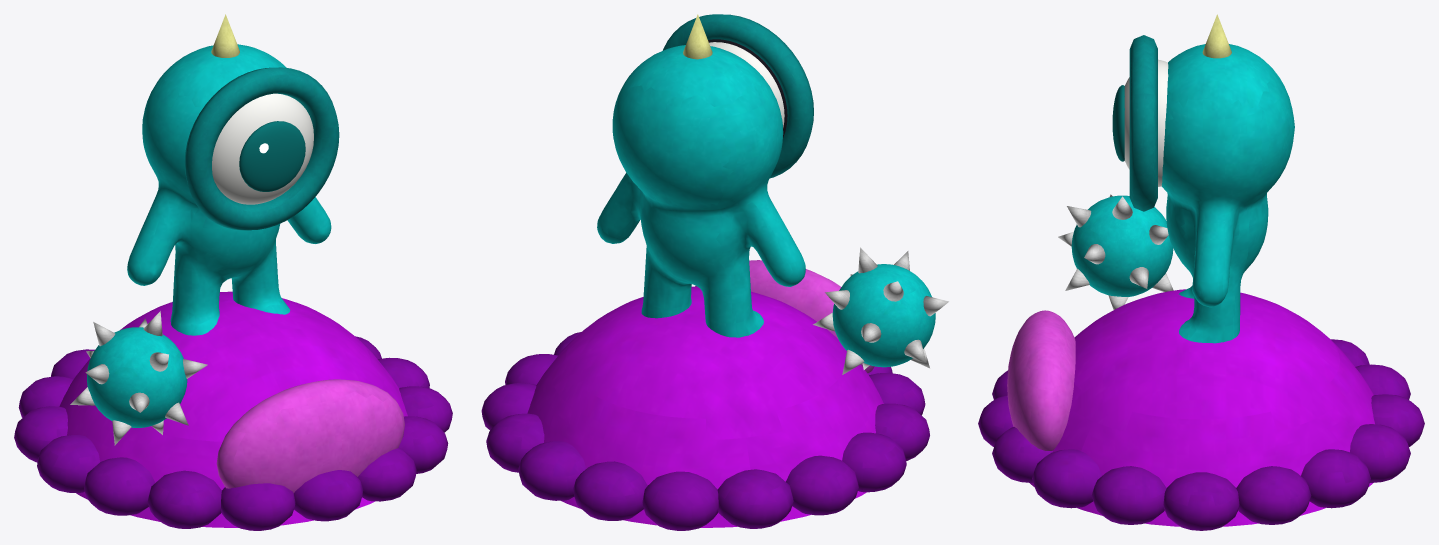
3 views of the same model, side by side, from view 1: azimuth 30°, elevation 25°; view 2: azimuth 150°, elevation 25°; view 3: azimuth 270°, elevation 25° (orthographic). The views are drawn at different scales.
Parts seen in each view (by area): view 1: Skirt, Dome, Body, Face, Hood, Ball, Sclera, Iris, Spikes, Horn; view 2: Dome, Body, Skirt, Ball, Hood, Face, Spikes, Sclera, Horn; view 3: Dome, Body, Skirt, Face, Ball, Hood, Spikes, Sclera, Iris, Horn.
Part boxes in pixels (x1,y1,x2,y2): Skirt: [14, 336, 452, 530]; Dome: [59, 291, 407, 527]; Body: [127, 44, 331, 335]; Face: [216, 379, 404, 493]; Hood: [184, 67, 339, 230]; Ball: [87, 327, 187, 427]; Sclera: [212, 93, 313, 204]; Iris: [239, 121, 305, 191]; Spikes: [70, 311, 207, 445]; Horn: [211, 14, 239, 57]; Dome: [527, 286, 883, 527]; Body: [597, 45, 805, 337]; Skirt: [481, 332, 929, 530]; Ball: [832, 264, 935, 367]; Hood: [663, 14, 813, 178]; Face: [695, 260, 874, 373]; Spikes: [813, 247, 948, 374]; Sclera: [709, 42, 784, 127]; Horn: [683, 14, 712, 59]; Dome: [1029, 289, 1374, 526]; Body: [1161, 44, 1294, 343]; Skirt: [978, 339, 1424, 530]; Face: [1007, 310, 1075, 450]; Ball: [1071, 195, 1173, 296]; Hood: [1129, 35, 1157, 211]; Spikes: [1058, 194, 1173, 309]; Sclera: [1124, 59, 1168, 186]; Iris: [1112, 85, 1124, 161]; Horn: [1202, 14, 1231, 58].
Bounding box in the file's own units: 0.5688 × 0.608 × 0.5664.
13 materials, 8 textured.
